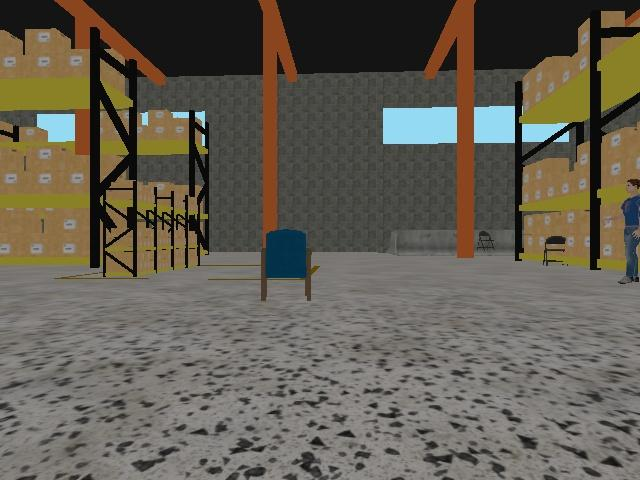chair: (260, 228, 313, 302), (476, 230, 497, 253)
person: (616, 177, 640, 285)
